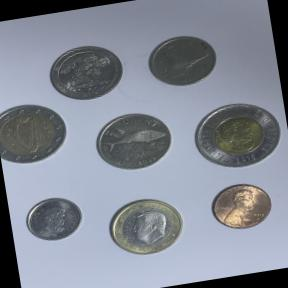coin: (181, 88, 288, 180), (84, 102, 181, 184), (100, 187, 194, 263), (42, 38, 129, 107), (0, 97, 73, 171), (203, 174, 280, 238), (19, 189, 88, 248)
